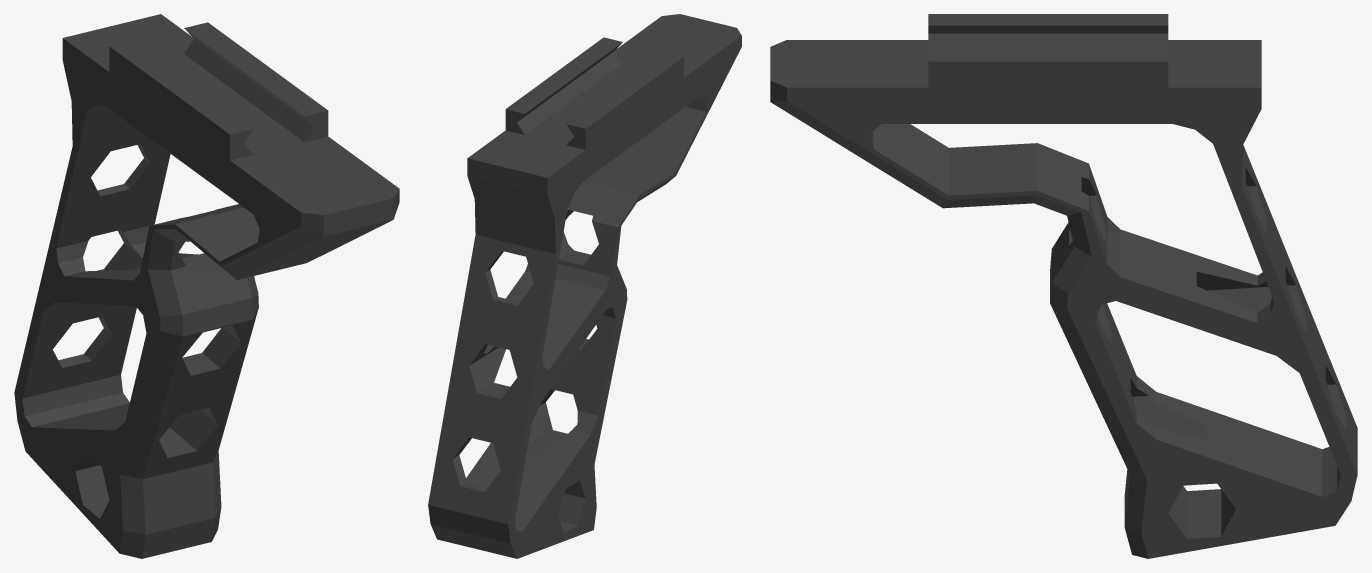
The model's file is att_grip_hl.glb.
The picture shows the model from 3 angles, left to right: view 1: azimuth 30°, elevation 25°; view 2: azimuth 150°, elevation 25°; view 3: azimuth 270°, elevation 25°; orthographic projection. The views are drawn at different scales.
Visible parts, largest first — view 1: vertical_Grip_01_0; view 2: vertical_Grip_01_0; view 3: vertical_Grip_01_0.
Boxes of the visible parts, x1,y1,x2,y2 form: vertical_Grip_01_0: (14,14,399,558); vertical_Grip_01_0: (428,14,741,558); vertical_Grip_01_0: (770,14,1357,558).
Bounding box in the file's own units: 0.0168 × 0.0818 × 0.087.
Materials: 1 (1 with a texture image).
